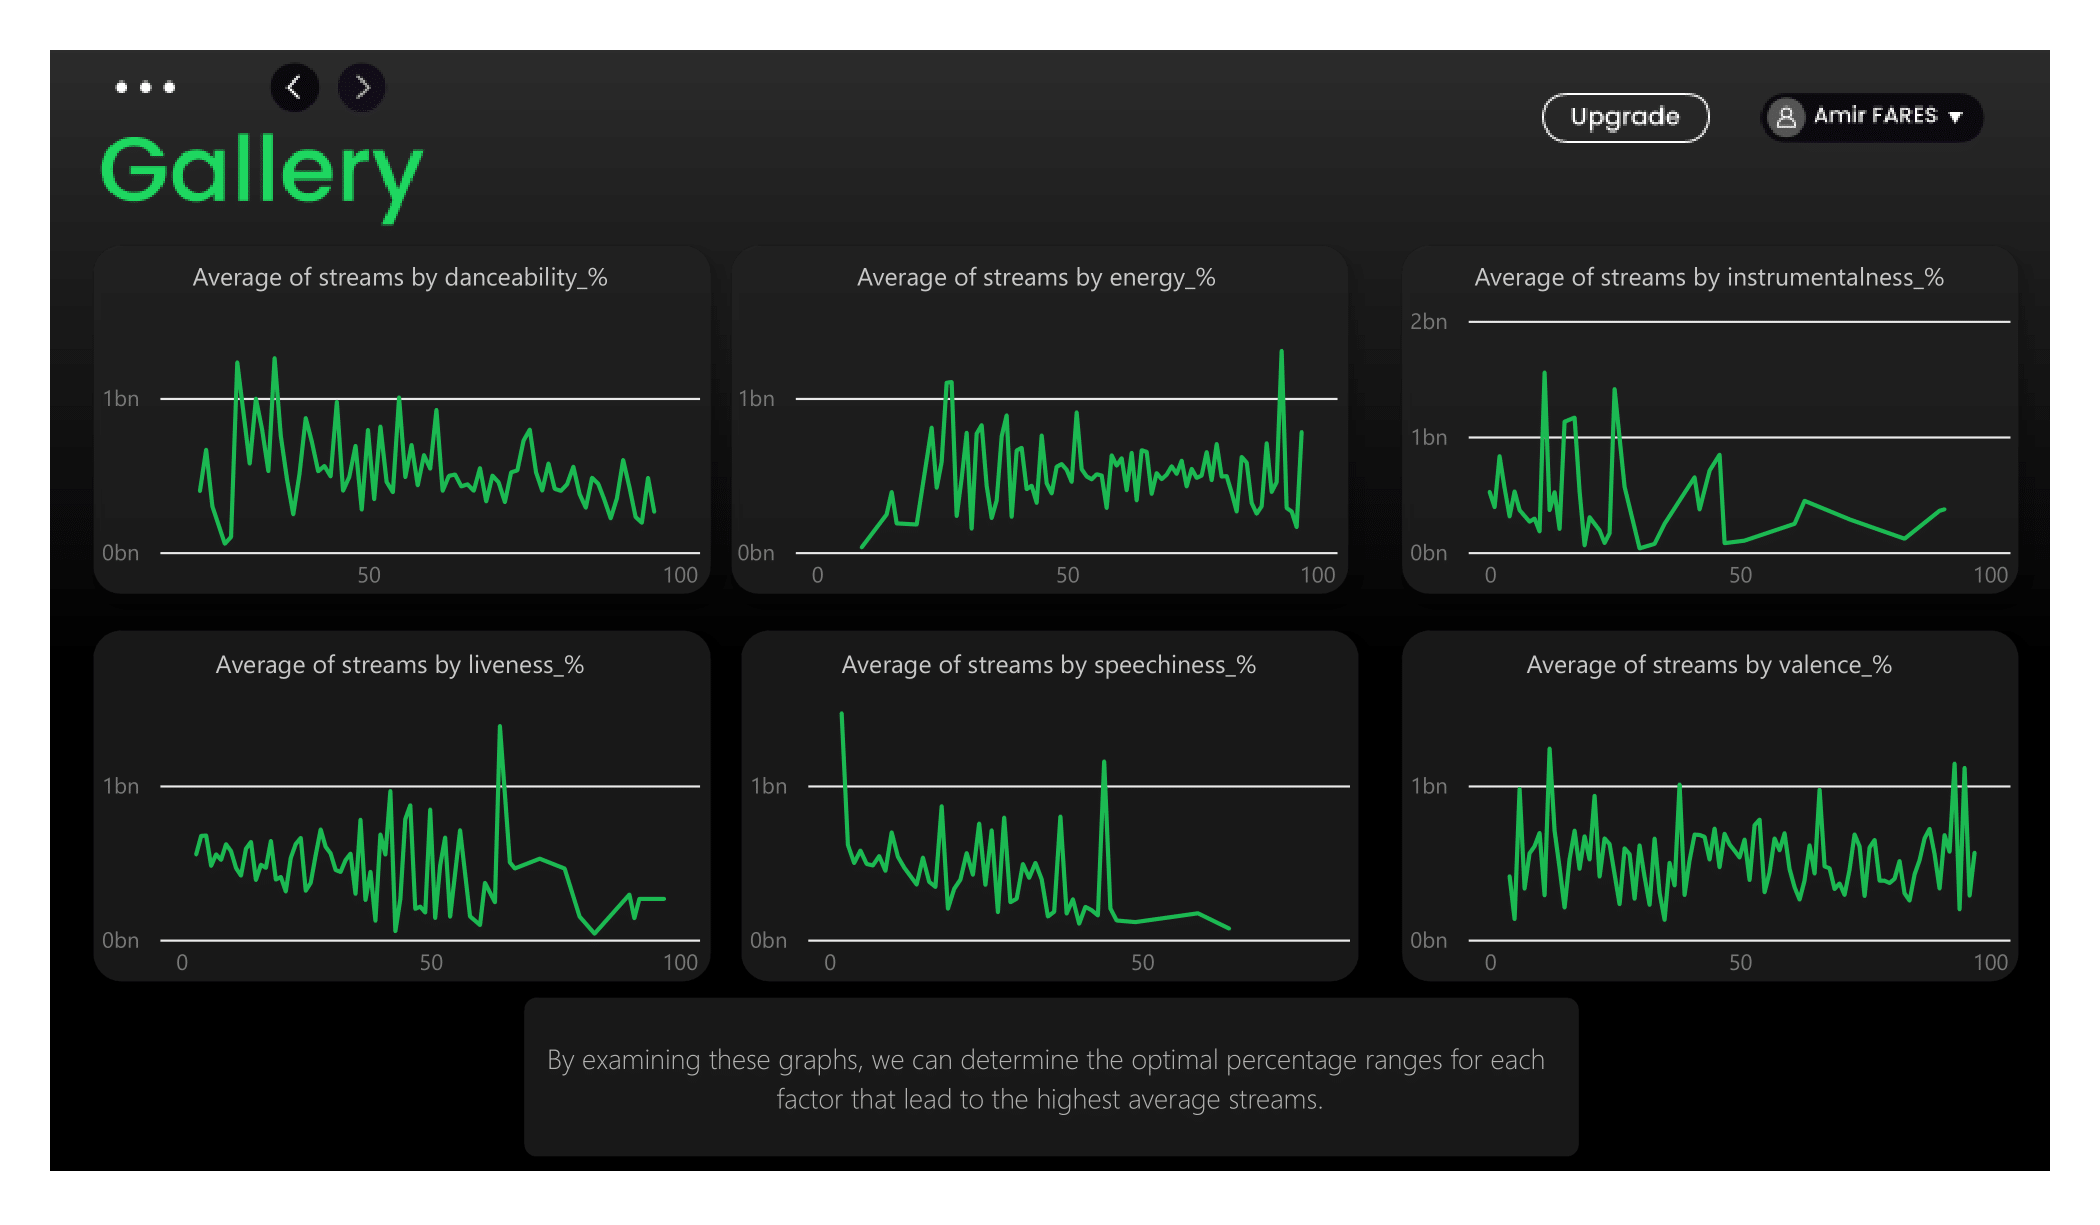

The page's visual inventory and layout, read from the dashboard file:
{"tool":"powerbi","page":{"name":"Page 7","canvas":[960,540],"ordinal":6},"visuals":[{"type":"shape","title":"Short Rectangle","box":[218.6,445.7,524.3,94.3],"z":0},{"type":"textbox","box":[230,468.6,500,71.4],"z":1000},{"type":"shape","title":"Rectangle","box":[11.6,84.9,314,185.3],"z":2000},{"type":"shape","title":"Rectangle","box":[317.9,84.9,314,185.3],"z":3000},{"type":"shape","title":"Rectangle","box":[639.6,84.9,314,185.3],"z":4000},{"type":"shape","title":"Rectangle","box":[11.6,270.2,314,185.3],"z":5000},{"type":"shape","title":"Rectangle","box":[639.6,270.2,314,185.3],"z":6000},{"type":"shape","title":"Rectangle","box":[323,270.2,314,185.3],"z":7000},{"type":"lineChart","fields":{"Y":["Avg(Spotify Dataset.streams)"],"Category":["Spotify Dataset.danceability_%"]},"box":[18.6,100,298.6,170],"z":8000},{"type":"lineChart","fields":{"Y":["Avg(Spotify Dataset.streams)"],"Category":["Spotify Dataset.energy_%"]},"box":[324.3,100,298.6,170],"z":9000},{"type":"lineChart","fields":{"Y":["Avg(Spotify Dataset.streams)"],"Category":["Spotify Dataset.instrumentalness_%"]},"box":[647.1,100,298.6,170],"z":10000},{"type":"lineChart","fields":{"Y":["Avg(Spotify Dataset.streams)"],"Category":["Spotify Dataset.liveness_%"]},"box":[18.6,285.7,298.6,170],"z":11000},{"type":"lineChart","fields":{"Y":["Avg(Spotify Dataset.streams)"],"Category":["Spotify Dataset.speechiness_%"]},"box":[330,285.7,298.6,170],"z":12000},{"type":"lineChart","fields":{"Y":["Avg(Spotify Dataset.streams)"],"Category":["Spotify Dataset.valence_%"]},"box":[647.1,285.7,298.6,170],"z":13000}]}

Visuals, with their boxes on the page's 960x540 design canvas (x1, y1, x2, y2). These are canvas units, not pixel positions in the 2100x1225 screenshot, which may show the page scaled, cropped or inside an application window:
"Short Rectangle" shape: [219,446,743,540]
textbox: [230,469,730,540]
"Rectangle" shape: [12,85,326,270]
"Rectangle" shape: [318,85,632,270]
"Rectangle" shape: [640,85,954,270]
"Rectangle" shape: [12,270,326,456]
"Rectangle" shape: [640,270,954,456]
"Rectangle" shape: [323,270,637,456]
lineChart - Avg(Spotify Dataset.streams) x Spotify Dataset.danceability_%: [19,100,317,270]
lineChart - Avg(Spotify Dataset.streams) x Spotify Dataset.energy_%: [324,100,623,270]
lineChart - Avg(Spotify Dataset.streams) x Spotify Dataset.instrumentalness_%: [647,100,946,270]
lineChart - Avg(Spotify Dataset.streams) x Spotify Dataset.liveness_%: [19,286,317,456]
lineChart - Avg(Spotify Dataset.streams) x Spotify Dataset.speechiness_%: [330,286,629,456]
lineChart - Avg(Spotify Dataset.streams) x Spotify Dataset.valence_%: [647,286,946,456]
